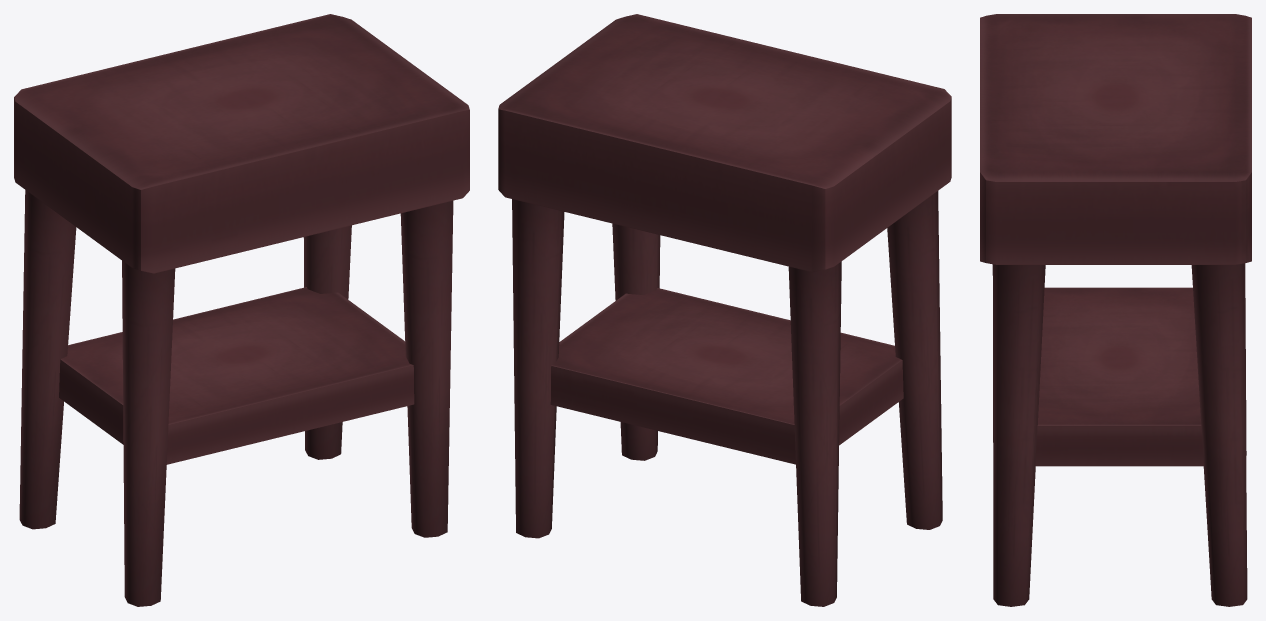
Rendered from short_table.fbx.
3 views of the same model, side by side, from view 1: azimuth 30°, elevation 25°; view 2: azimuth 150°, elevation 25°; view 3: azimuth 270°, elevation 25° (orthographic). The views are drawn at different scales.
Visible parts, largest first — view 1: Coffee_table_mesh1; view 2: Coffee_table_mesh1; view 3: Coffee_table_mesh1.
Boxes of the visible parts, bbox=[...] form: Coffee_table_mesh1: bbox=[14, 14, 469, 606]; Coffee_table_mesh1: bbox=[498, 14, 951, 606]; Coffee_table_mesh1: bbox=[980, 14, 1251, 606].
Bounding box in the file's own units: 6.27 × 7.59 × 4.28.
1 material, 1 textured.
